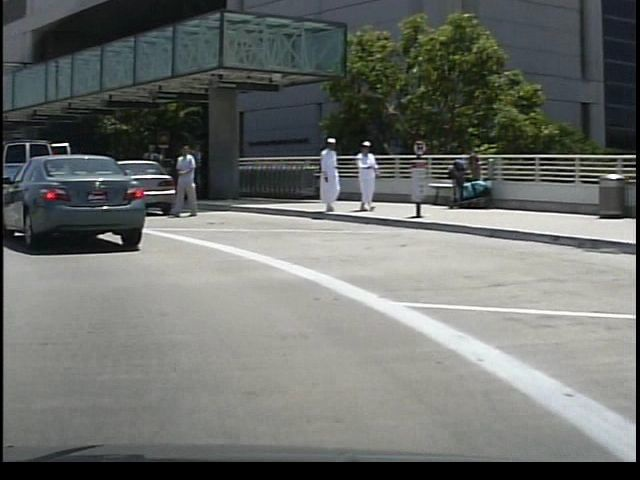person: (168, 138, 201, 222), (350, 136, 380, 214), (313, 133, 338, 218)
